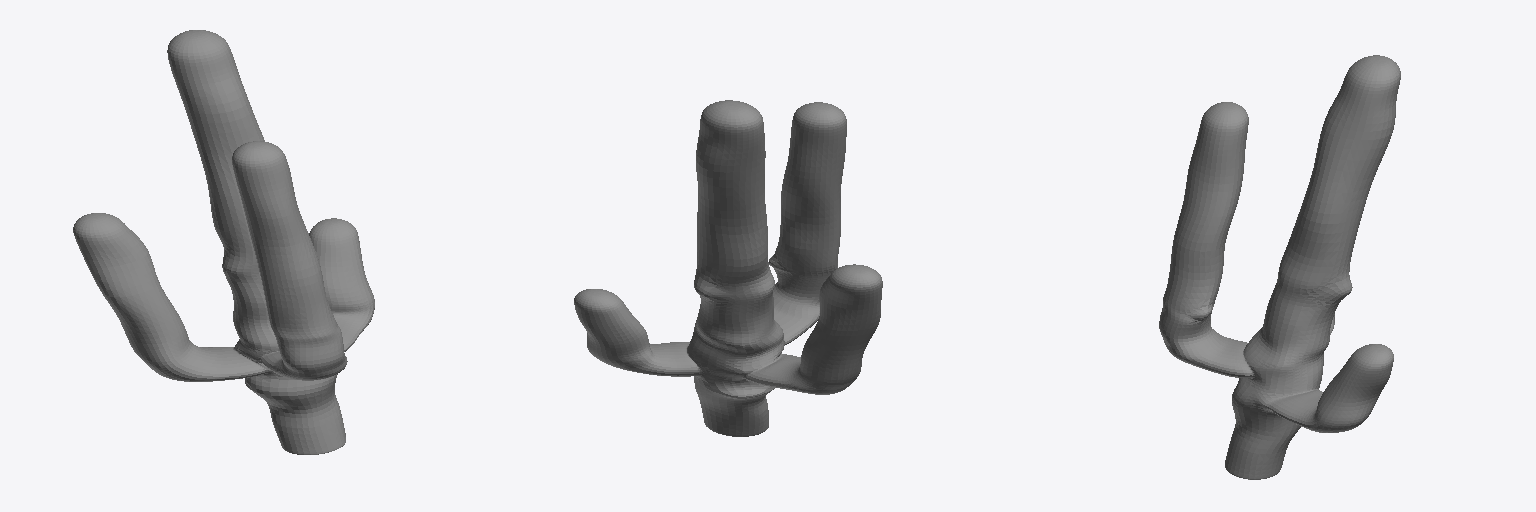
The model's file is cactus_v1.obj.
3 views of the same model, side by side, from view 1: azimuth 30°, elevation 25°; view 2: azimuth 150°, elevation 25°; view 3: azimuth 270°, elevation 25° (orthographic).
Visible parts, largest first — view 1: 10436_Cactus_v1; view 2: 10436_Cactus_v1; view 3: 10436_Cactus_v1.
Boxes of the visible parts, box(x1,y1,x2,y2) form: 10436_Cactus_v1: box(73, 30, 374, 454); 10436_Cactus_v1: box(574, 100, 882, 436); 10436_Cactus_v1: box(1159, 55, 1400, 479).
Bounding box in the file's own units: 1.93 × 2.4 × 1.39.